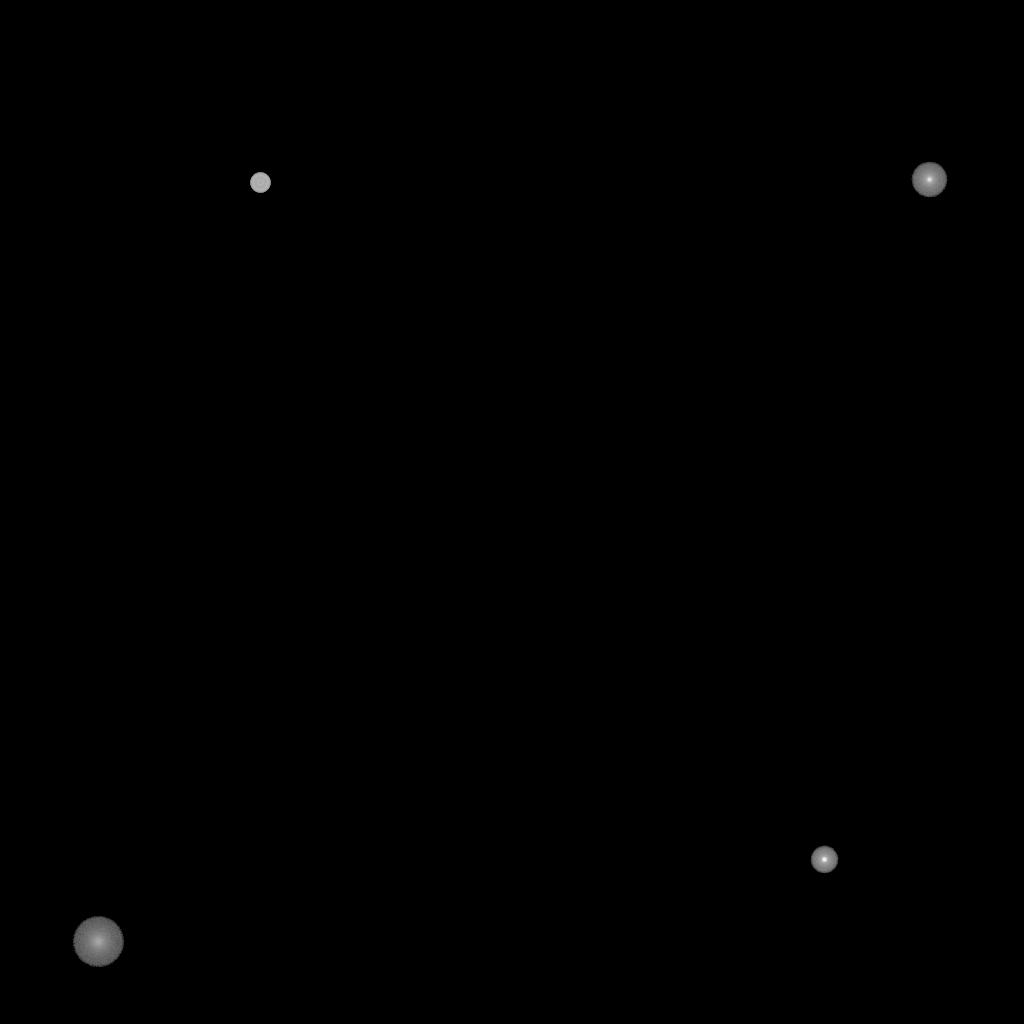depth:-10: (810, 846, 838, 874)
depth:-40: (250, 173, 270, 193)
depth:0: (911, 162, 947, 198)
depth:20: (72, 917, 124, 967)
